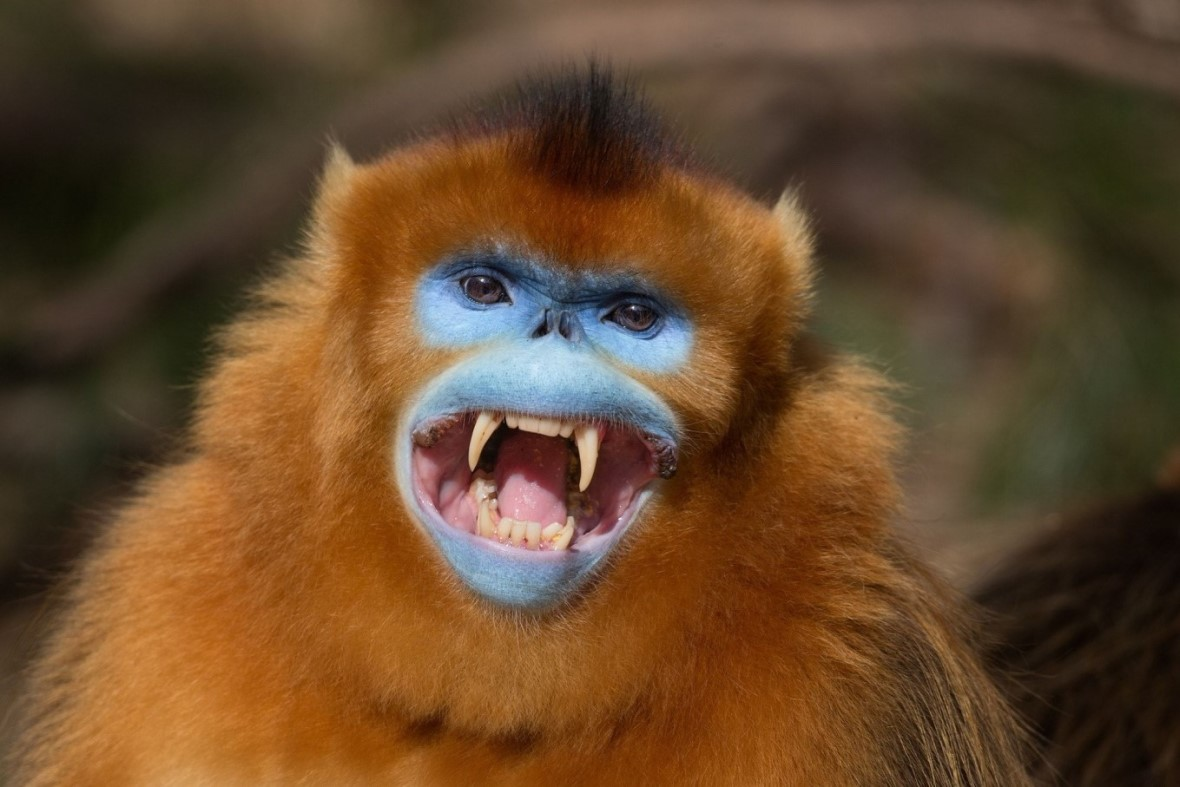GoldenSnub-Nosed: (246, 136, 875, 766)
